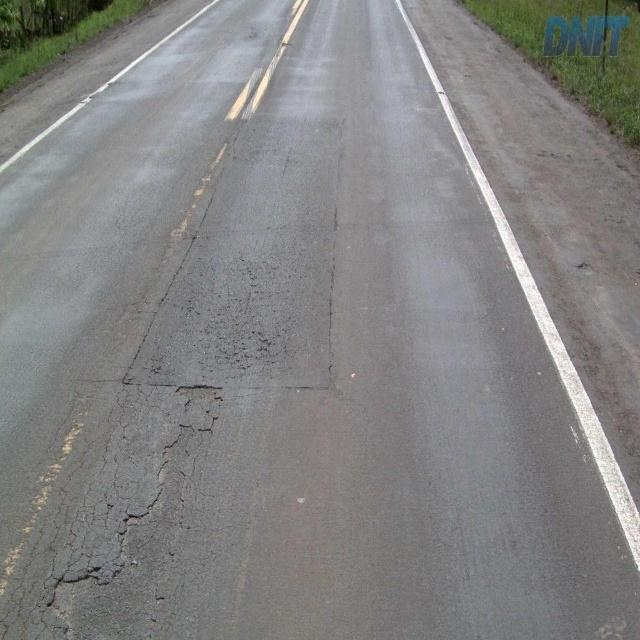pothole: (41, 417, 202, 639), (173, 381, 228, 415)
